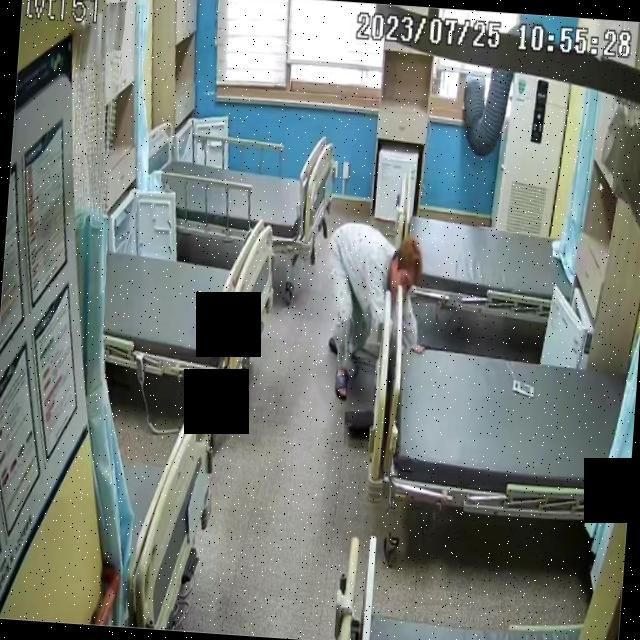bed: (384, 332, 630, 522), (97, 208, 281, 397), (140, 121, 334, 255), (390, 189, 578, 322)
danger: (318, 218, 431, 406)
patient: (318, 218, 430, 406)
